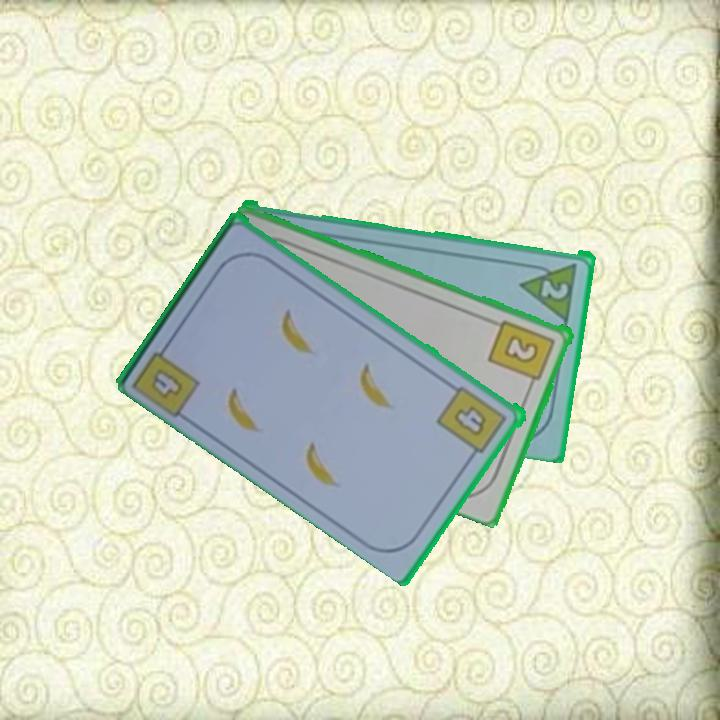2b: (486, 316, 559, 391)
2p: (538, 275, 572, 302)
4b: (130, 335, 204, 419), (434, 382, 511, 462)
